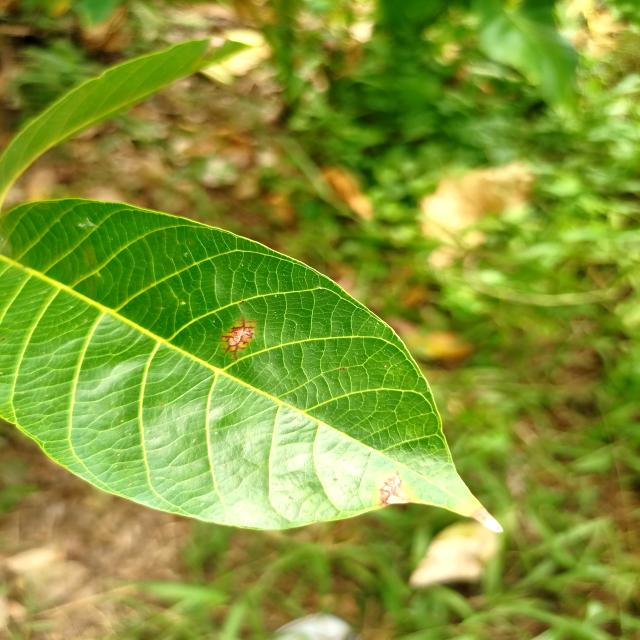Corynespora: (220, 315, 257, 360)
Leaf-Blight: (469, 506, 503, 532)
